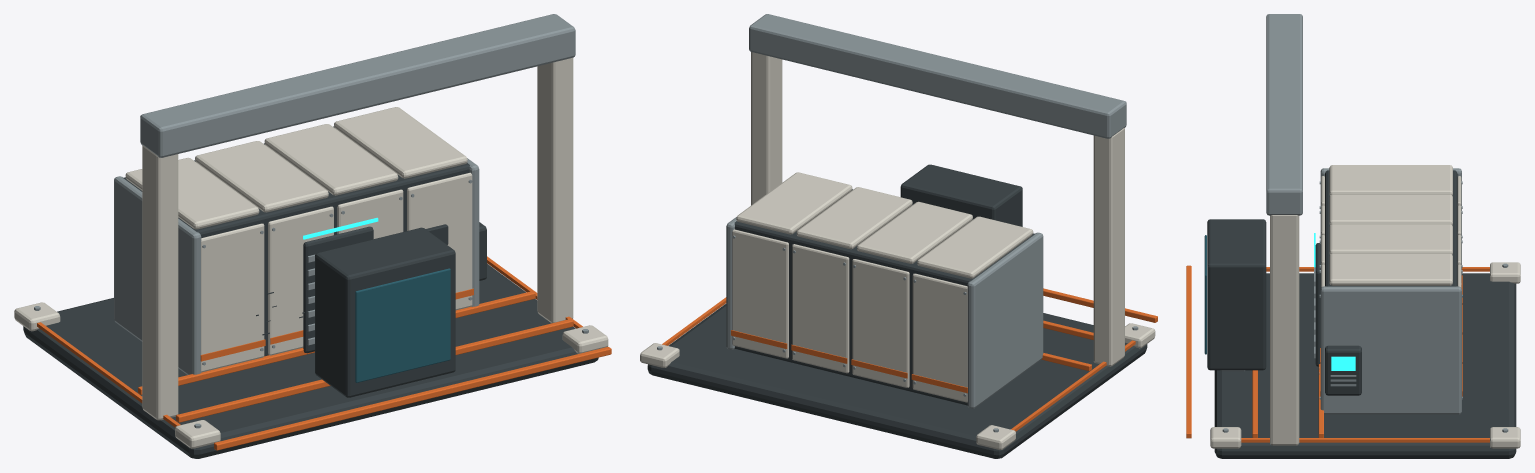
Rendered from SM_CustomFabricationCenter_Body.002.fbx.
The picture shows the model from 3 angles, left to right: view 1: azimuth 30°, elevation 25°; view 2: azimuth 150°, elevation 25°; view 3: azimuth 270°, elevation 25°; orthographic projection. The views are drawn at different scales.
Parts seen in each view (by area): view 1: SM_CustomFabricationCenter_Body.002; view 2: SM_CustomFabricationCenter_Body.002; view 3: SM_CustomFabricationCenter_Body.002.
Boxes of the visible parts, x1=… form: SM_CustomFabricationCenter_Body.002: x1=14, y1=14, x2=611, y2=458; SM_CustomFabricationCenter_Body.002: x1=640, y1=14, x2=1157, y2=458; SM_CustomFabricationCenter_Body.002: x1=1186, y1=14, x2=1520, y2=458.
Bounding box in the file's own units: 572 × 455 × 410.
